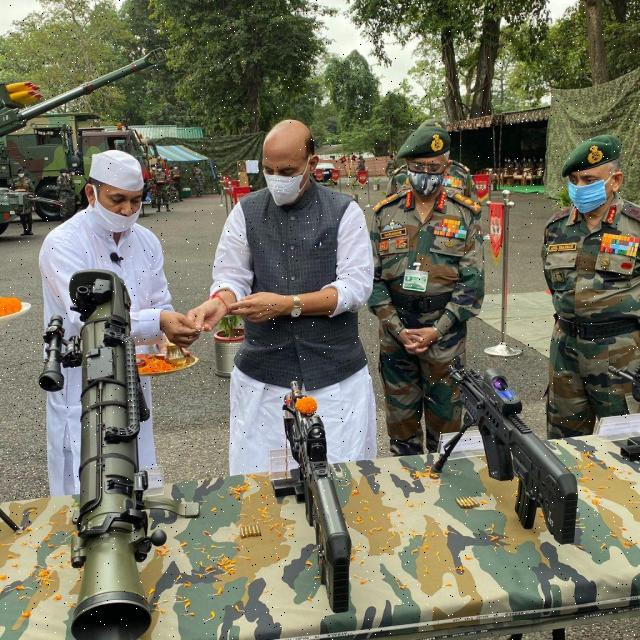bazooka: (35, 270, 169, 640)
